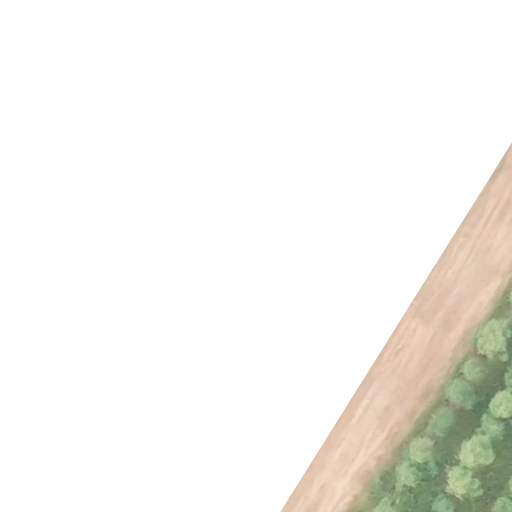eucalipto: (457, 435, 499, 471), (441, 470, 483, 505), (479, 316, 512, 360), (405, 435, 444, 468), (443, 379, 479, 413), (426, 410, 461, 440), (395, 464, 427, 496), (487, 388, 512, 420), (460, 360, 490, 386), (473, 414, 504, 439)
